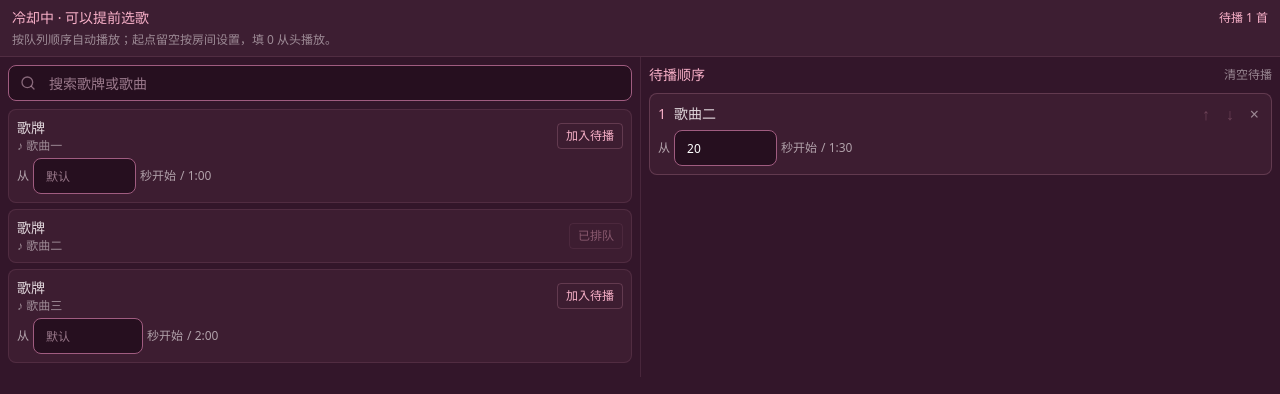
裁判待播队列 › 待播起点可改回房间默认；保存失败会显示错误并恢复原值
The image size is (1280, 394).
Clear the number field named "歌曲二播放起点（秒）": {"x": 726, "y": 148} [674,130,777,166]
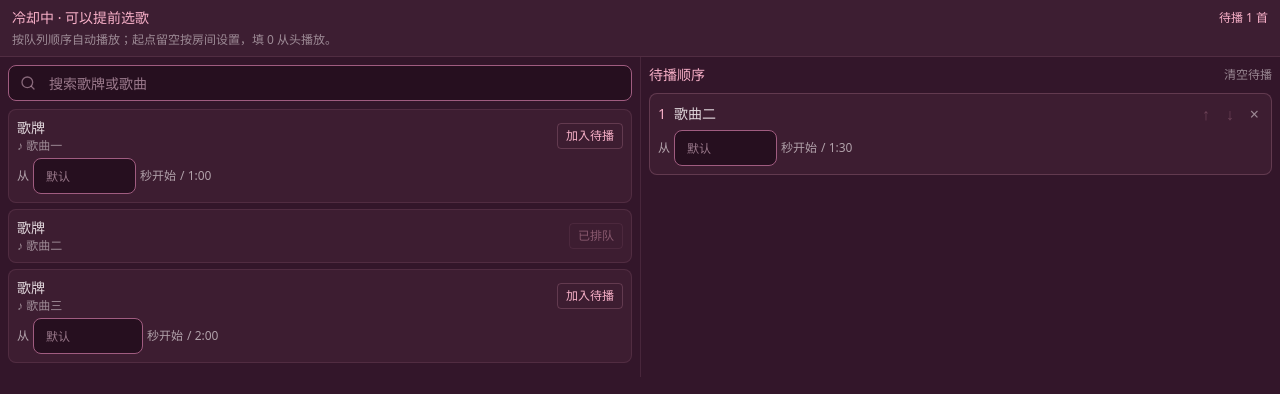
In the number field named "歌曲二播放起点（秒）": {"x": 726, "y": 148} [674,130,777,166], type "35"
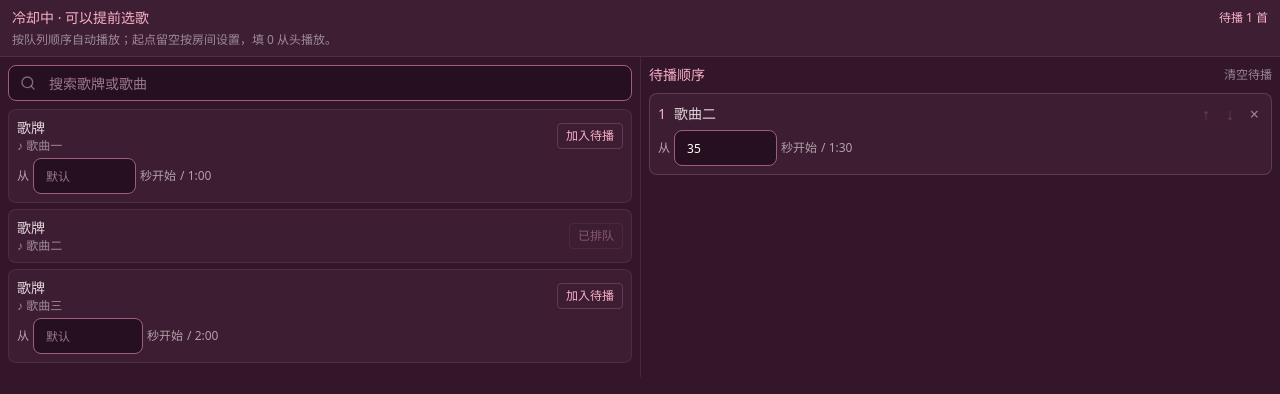
Leave the number field named "歌曲二播放起点（秒）", box [674,130,777,166]
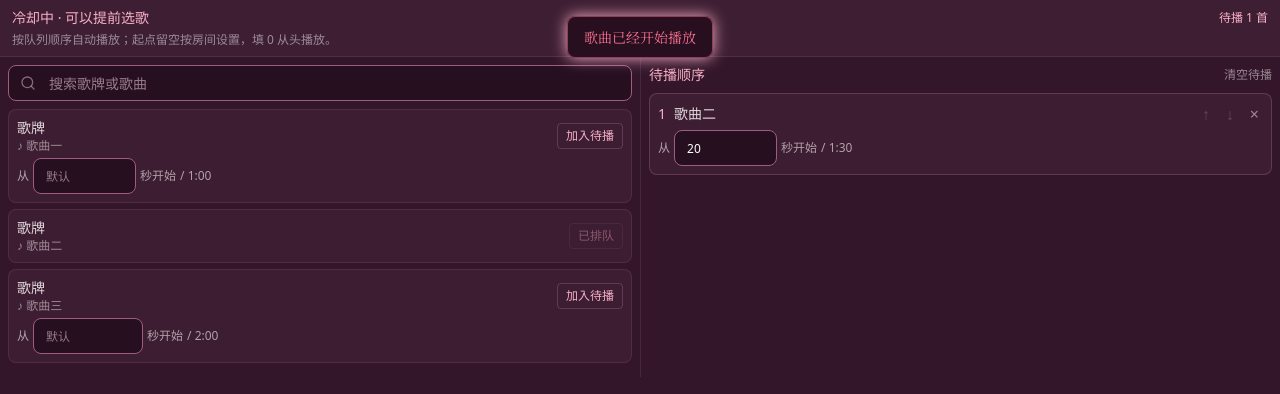
Expected: the text "歌曲已经开始播放" is shown, [567,16,713,58]
Expected: the number field named "歌曲二播放起点（秒）" holds "20", [674,130,777,166]
